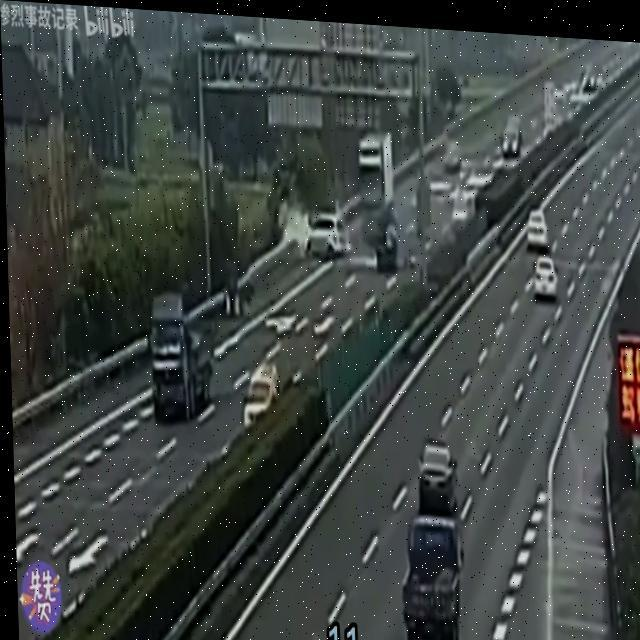multiple_accident: (262, 183, 424, 303)
normal: (105, 280, 226, 428), (510, 201, 572, 316)
